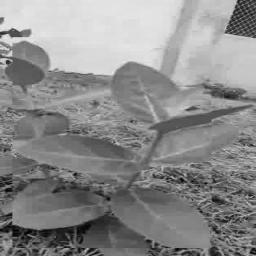CALOTROPIS: (13, 37, 213, 249)
